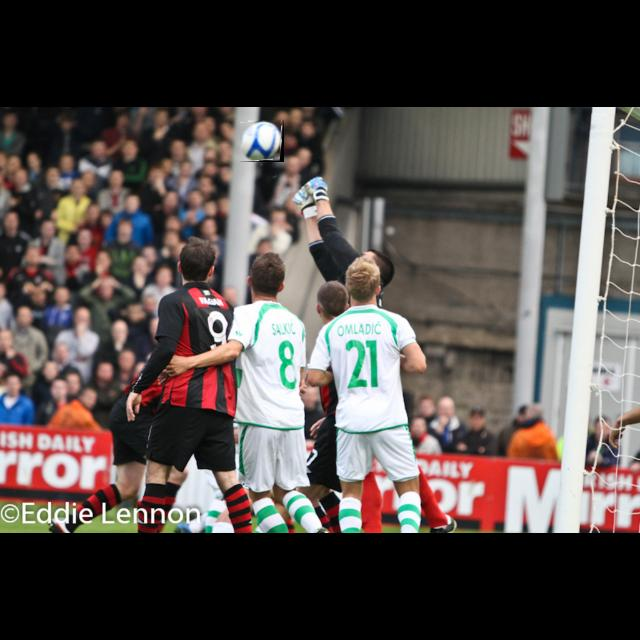Football: (240, 120, 284, 162)
